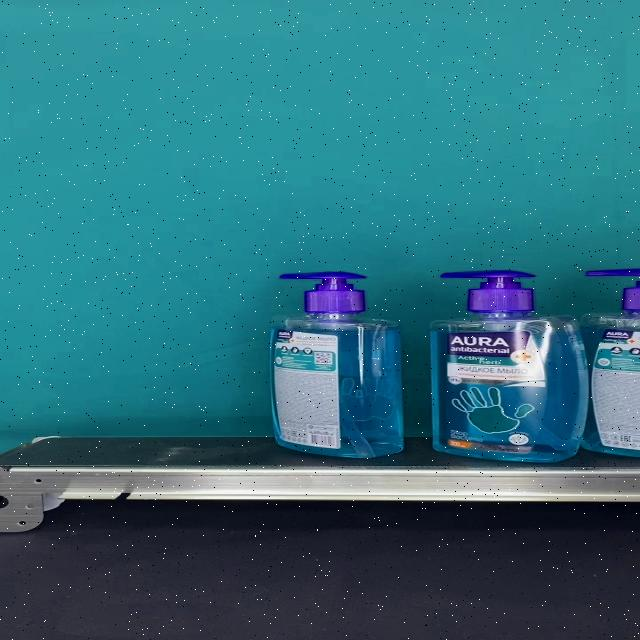Bottle: (429, 270, 588, 462), (268, 270, 404, 458)
Cap: (440, 270, 536, 312), (278, 270, 367, 312)
